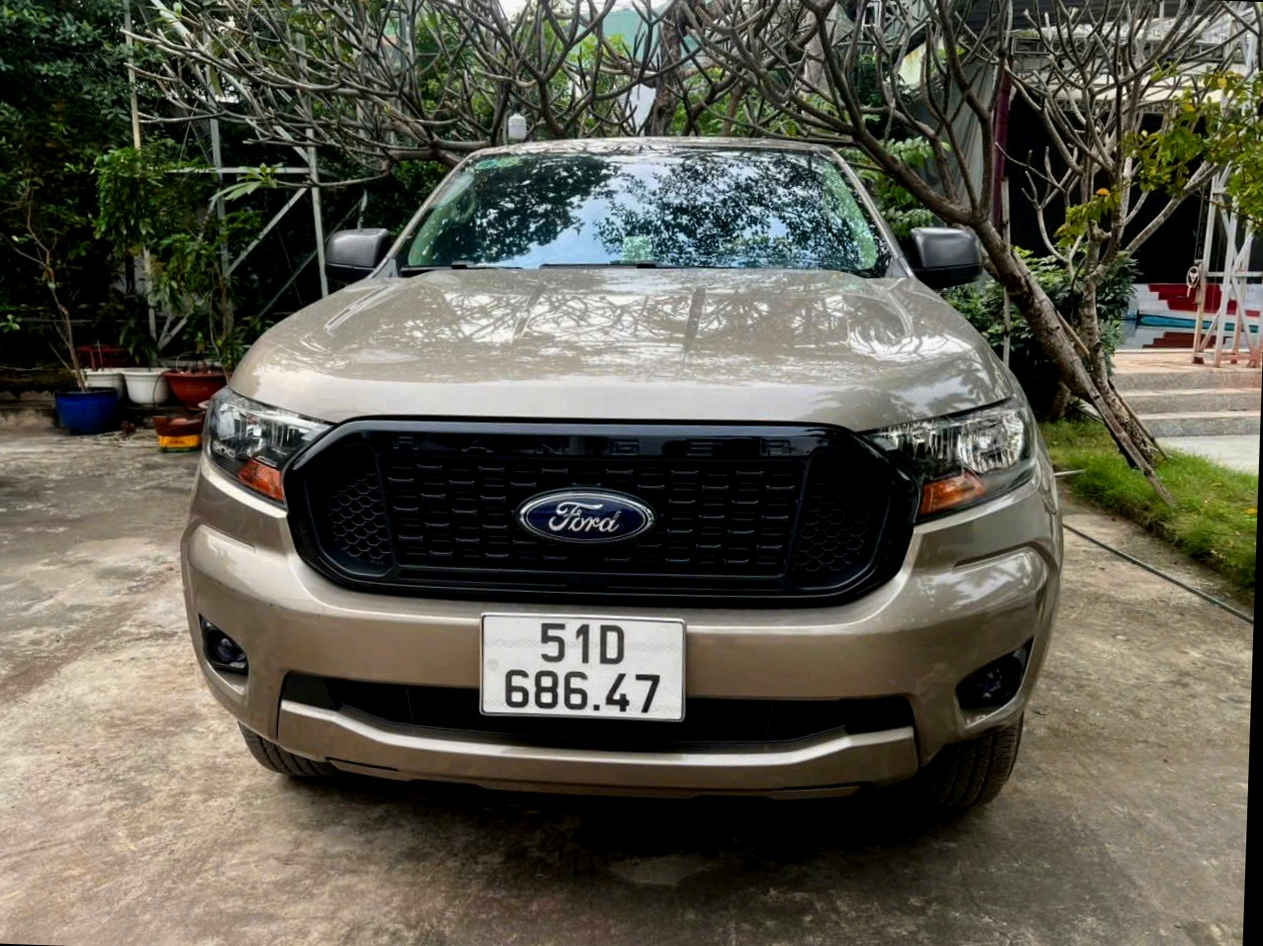Bien-so: (472, 614, 685, 723)
